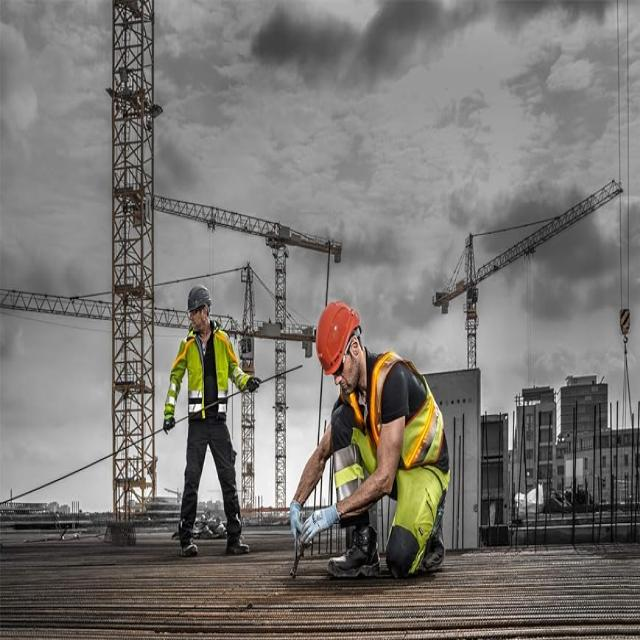shoes: (324, 528, 382, 583), (223, 528, 253, 558), (176, 523, 202, 557)
